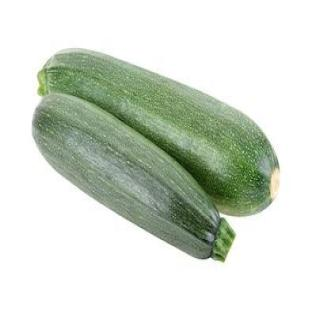Zucchini: (39, 50, 278, 215), (33, 94, 234, 260)
